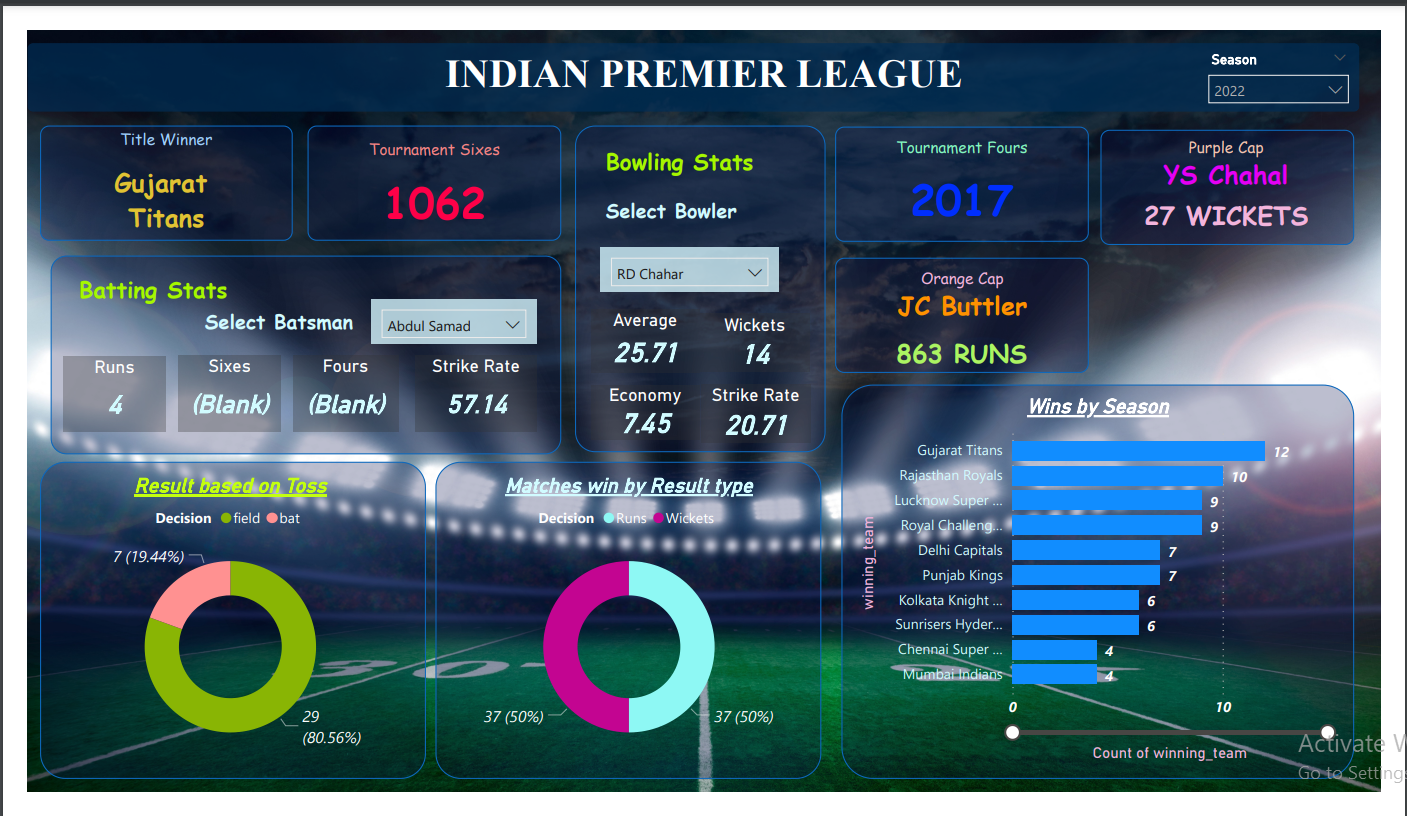

Layout of this report page (visuals, bound fields, positions):
{"tool":"powerbi","page":{"name":"Page 1","canvas":[1280,720],"ordinal":0},"visuals":[{"type":"shape","box":[0,11.5,1260,65.4],"z":0},{"type":"textbox","box":[366.5,15.5,546.2,58.3],"z":1000},{"type":"slicer","fields":{"Values":["Calender.Year"]},"box":[1107.5,15.4,152.5,59],"z":2000},{"type":"shape","box":[11.5,89.7,239.7,109],"z":3000},{"type":"card","title":"Title Winner","fields":{"Values":["ipl_matches_2008_2022.Title Winner"]},"box":[43.6,92.3,175.6,109],"z":4000},{"type":"shape","box":[265.3,89.7,239.7,109],"z":5000},{"type":"shape","box":[764,91,239.7,109],"z":6000},{"type":"shape","box":[1015.2,93.6,239.7,109],"z":7000},{"type":"shape","box":[764,215.3,239.7,109],"z":8000},{"type":"card","title":"Orange Cap","fields":{"Values":["ipl_ball_by_ball_2008_2022.batter"]},"box":[765.2,224.3,238.4,53.8],"z":9000},{"type":"card","title":"Orange Cap","fields":{"Values":["ipl_ball_by_ball_2008_2022.Runs"]},"box":[799.8,291,167.9,32],"z":10000},{"type":"card","title":"Purple Cap","fields":{"Values":["ipl_ball_by_ball_2008_2022.bowler"]},"box":[1013.9,100,239.7,53.8],"z":11000},{"type":"card","title":"Purple Cap","fields":{"Values":["ipl_ball_by_ball_2008_2022.Wickets"]},"box":[1037,160.2,193.6,32],"z":11001},{"type":"card","title":"Tournament Sixes","fields":{"Values":["ipl_ball_by_ball_2008_2022.batsman_run"]},"box":[265.1,101.7,240.4,100.2],"z":11002},{"type":"card","title":"Tournament Fours","fields":{"Values":["ipl_ball_by_ball_2008_2022.batsman_run"]},"box":[764,100,239.7,100],"z":11003},{"type":"shape","box":[21.6,212.7,483.9,188],"z":11004},{"type":"shape","box":[517.8,89.7,237.1,308.9],"z":11005},{"type":"slicer","fields":{"Values":["ipl_ball_by_ball_2008_2022.batter"]},"box":[325.2,254.3,157.2,41.6],"z":11006},{"type":"card","title":"Sixes","fields":{"Values":["ipl_ball_by_ball_2008_2022.batsman_run"]},"box":[143.3,306.7,97.1,72.4],"z":11008},{"type":"card","title":"Runs","fields":{"Values":["ipl_ball_by_ball_2008_2022.batsman_run"]},"box":[33.9,308.2,97.1,70.9],"z":11009},{"type":"card","title":"Fours","fields":{"Values":["ipl_ball_by_ball_2008_2022.batsman_run"]},"box":[251.2,306.7,100.2,72.4],"z":11010},{"type":"card","title":"Strike Rate","fields":{"Values":["ipl_ball_by_ball_2008_2022.sr"]},"box":[366.8,306.7,115.6,72.4],"z":11011},{"type":"textbox","box":[542.2,151.3,152.5,41],"z":11012},{"type":"textbox","box":[542.2,102.5,169.2,42.3],"z":11013},{"type":"slicer","fields":{"Values":["ipl_ball_by_ball_2008_2022.bowler"]},"box":[542.2,205.1,169.2,42.3],"z":11014},{"type":"card","title":"Wickets","fields":{"Values":["ipl_ball_by_ball_2008_2022.iswicket_delivery"]},"box":[635.8,267.9,103.8,55.1],"z":11015},{"type":"card","title":"Economy","fields":{"Values":["ipl_ball_by_ball_2008_2022.eco"]},"box":[533.2,334.6,102.5,52.6],"z":11016},{"type":"card","title":"Average","fields":{"Values":["ipl_ball_by_ball_2008_2022.avg"]},"box":[533.2,264.1,102.5,60.2],"z":11017},{"type":"card","title":"Strike Rate","fields":{"Values":["ipl_ball_by_ball_2008_2022.Bowling sr"]},"box":[637.1,334.6,103.8,55.1],"z":11018},{"type":"textbox","box":[163.4,255.8,154.1,40.1],"z":11019},{"type":"textbox","box":[43.9,224.2,169.5,41.6],"z":11020},{"type":"shape","box":[11.5,407.6,365.3,299.9],"z":11021},{"type":"donutChart","title":"Result based on Toss","fields":{"Y":["ipl_matches_2008_2022.matches_won_by_toss"],"Category":["ipl_matches_2008_2022.toss_decision"]},"box":[14.1,419.1,356.3,276.9],"z":11022},{"type":"shape","box":[385.8,407.6,365.3,299.9],"z":11023},{"type":"donutChart","title":"Matches win by Result type","fields":{"Y":["ipl_matches_2008_2022.id"],"Category":["ipl_matches_2008_2022.won_by"]},"box":[390.9,419.1,356.3,276.9],"z":11024},{"type":"shape","box":[770.4,334.6,484.5,373],"z":11025},{"type":"barChart","title":"Wins by Season","fields":{"Category":["ipl_matches_2008_2022.winning_team"],"Y":["ipl_matches_2008_2022.winning_team"]},"box":[781.9,343.5,461.4,352.5],"z":11026}]}

Visuals, with their boxes on the page's 1280x720 design canvas (x1, y1, x2, y2). These are canvas units, not pixel positions in the 1407x816 screenshot, which may show the page scaled, cropped or inside an application window:
shape: (0, 12, 1260, 77)
textbox: (366, 16, 913, 74)
slicer - Calender.Year: (1108, 15, 1260, 74)
shape: (12, 90, 251, 199)
"Title Winner" card: (44, 92, 219, 201)
shape: (265, 90, 505, 199)
shape: (764, 91, 1004, 200)
shape: (1015, 94, 1255, 203)
shape: (764, 215, 1004, 324)
"Orange Cap" card: (765, 224, 1004, 278)
"Orange Cap" card: (800, 291, 968, 323)
"Purple Cap" card: (1014, 100, 1254, 154)
"Purple Cap" card: (1037, 160, 1231, 192)
"Tournament Sixes" card: (265, 102, 506, 202)
"Tournament Fours" card: (764, 100, 1004, 200)
shape: (22, 213, 506, 401)
shape: (518, 90, 755, 399)
slicer - ipl_ball_by_ball_2008_2022.batter: (325, 254, 482, 296)
"Sixes" card: (143, 307, 240, 379)
"Runs" card: (34, 308, 131, 379)
"Fours" card: (251, 307, 351, 379)
"Strike Rate" card: (367, 307, 482, 379)
textbox: (542, 151, 695, 192)
textbox: (542, 102, 711, 145)
slicer - ipl_ball_by_ball_2008_2022.bowler: (542, 205, 711, 247)
"Wickets" card: (636, 268, 740, 323)
"Economy" card: (533, 335, 636, 387)
"Average" card: (533, 264, 636, 324)
"Strike Rate" card: (637, 335, 741, 390)
textbox: (163, 256, 318, 296)
textbox: (44, 224, 213, 266)
shape: (12, 408, 377, 708)
"Result based on Toss" donutChart: (14, 419, 370, 696)
shape: (386, 408, 751, 708)
"Matches win by Result type" donutChart: (391, 419, 747, 696)
shape: (770, 335, 1255, 708)
"Wins by Season" barChart: (782, 344, 1243, 696)
